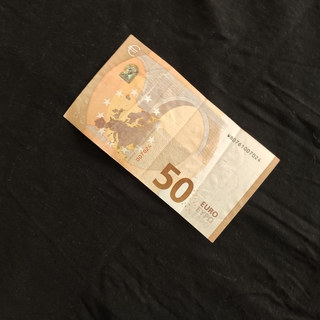50EUROBack: (61, 32, 282, 244)
